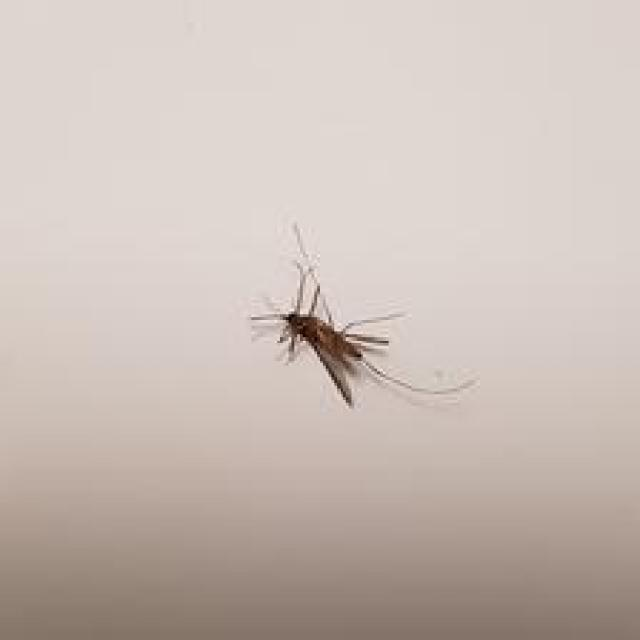Culex: (247, 221, 479, 410)
